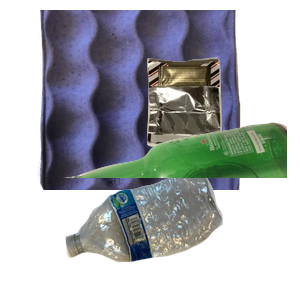glass: (60, 120, 300, 300)
paper: (35, 10, 268, 190)
plastic: (63, 170, 278, 300)
trash: (144, 55, 300, 197)
